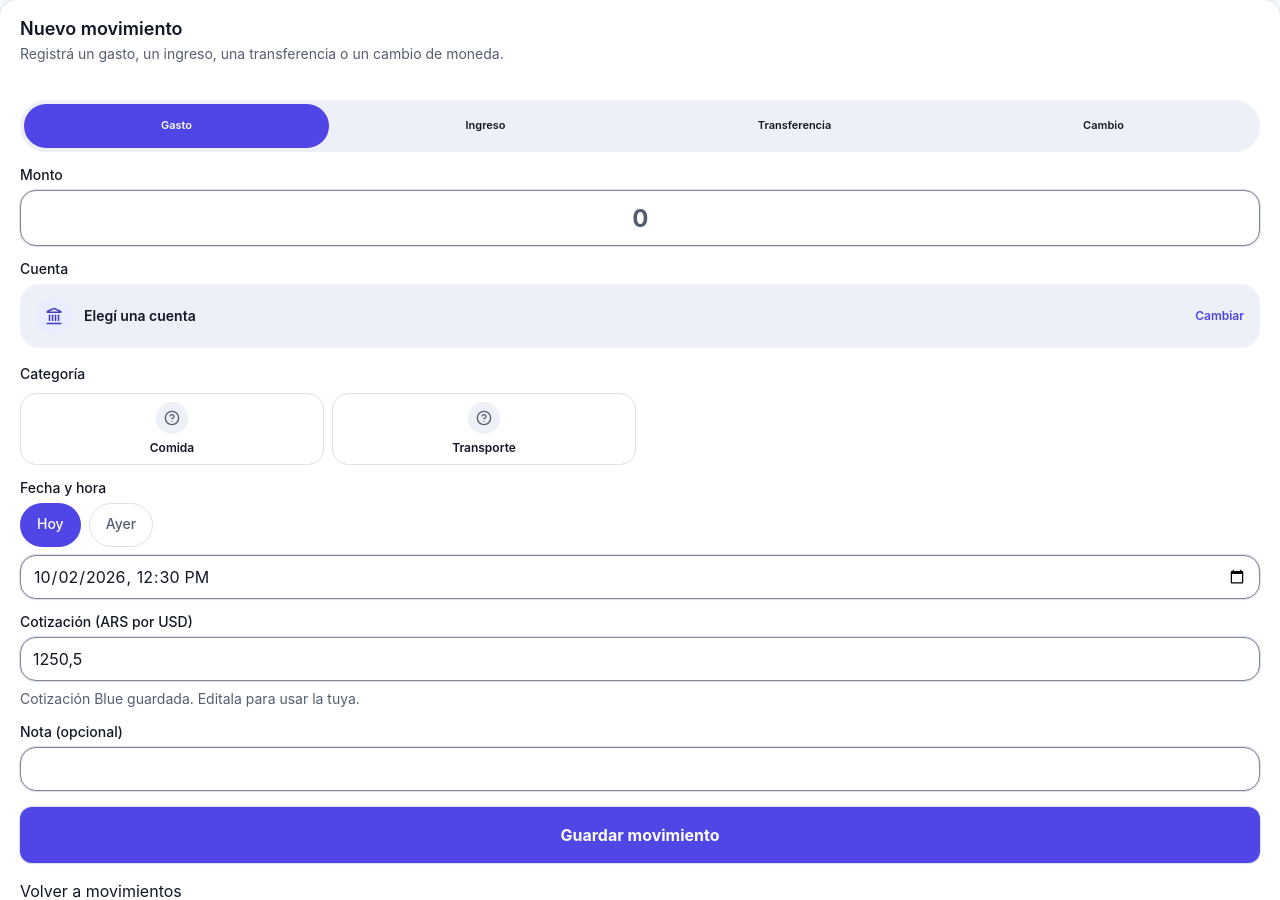
Test: MovementForm: transfers and exchanges (DISC-001-03c) › shows the exchange hint when there is no ARS and USD pair (AC-04)
Click the button with aria-label "Cambio de moneda": click(1104, 126) [951,104,1256,148]
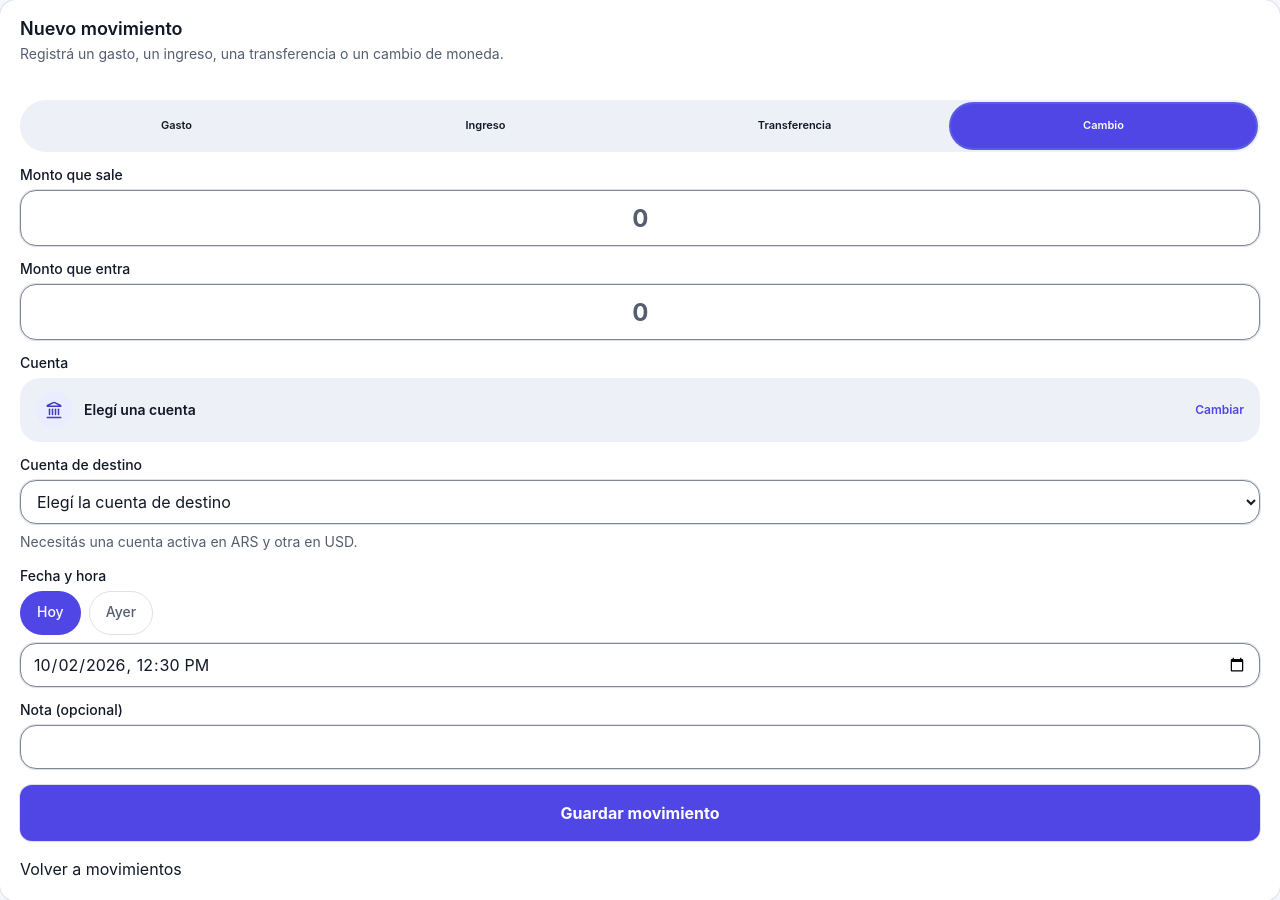
Expected: the text "Necesitás una cuenta activa en ARS y otra en USD." is shown, [20,533,358,550]
